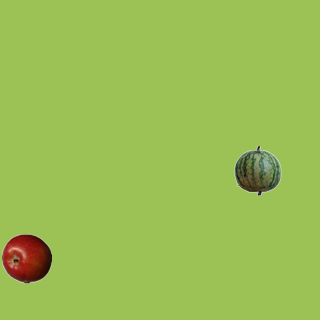Apple Braeburn: (1, 233, 51, 283)
Watermelon: (232, 145, 282, 195)
